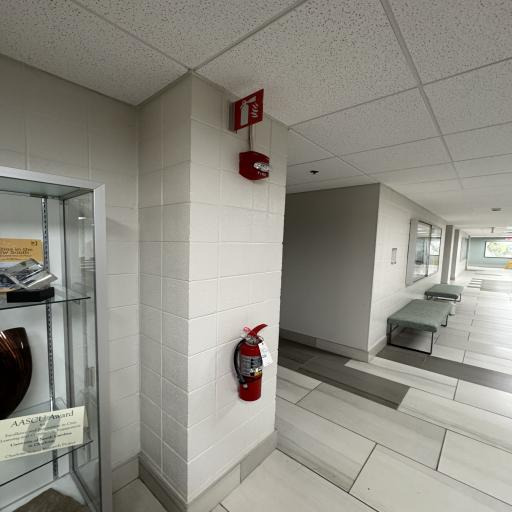bench: (393, 291, 448, 350), (432, 274, 461, 305)
fire alarm signal: (240, 149, 272, 185)
fire extinguisher: (230, 320, 276, 408)
fire extinguisher sign: (233, 93, 270, 134)
stuff: (0, 174, 119, 512)
